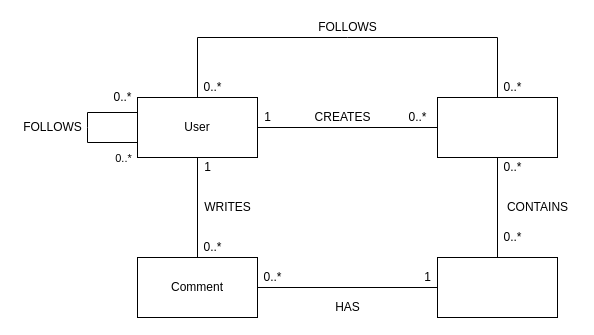
Some shapes in this 594 by 335 pixel diagram are drawn without their labels. The centre of each missing label's shape, as x and y in pixels:
Playlist: point (497, 127)
Song: point (497, 287)
